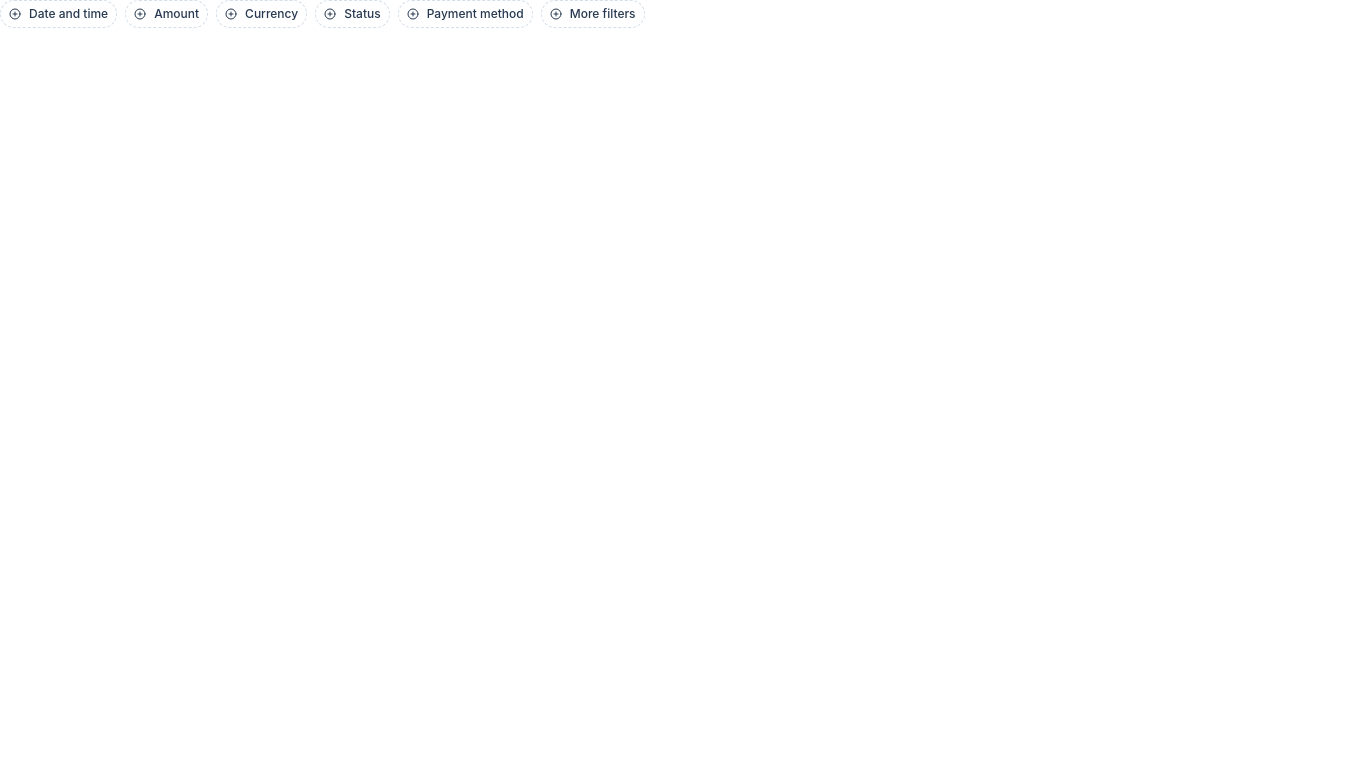
Test: FilterBar › amount rejects negatives and normalises between
Later steps or results of the test are not shown.
Click the button "Amount".
click(167, 14)  # box [125,0,208,28]
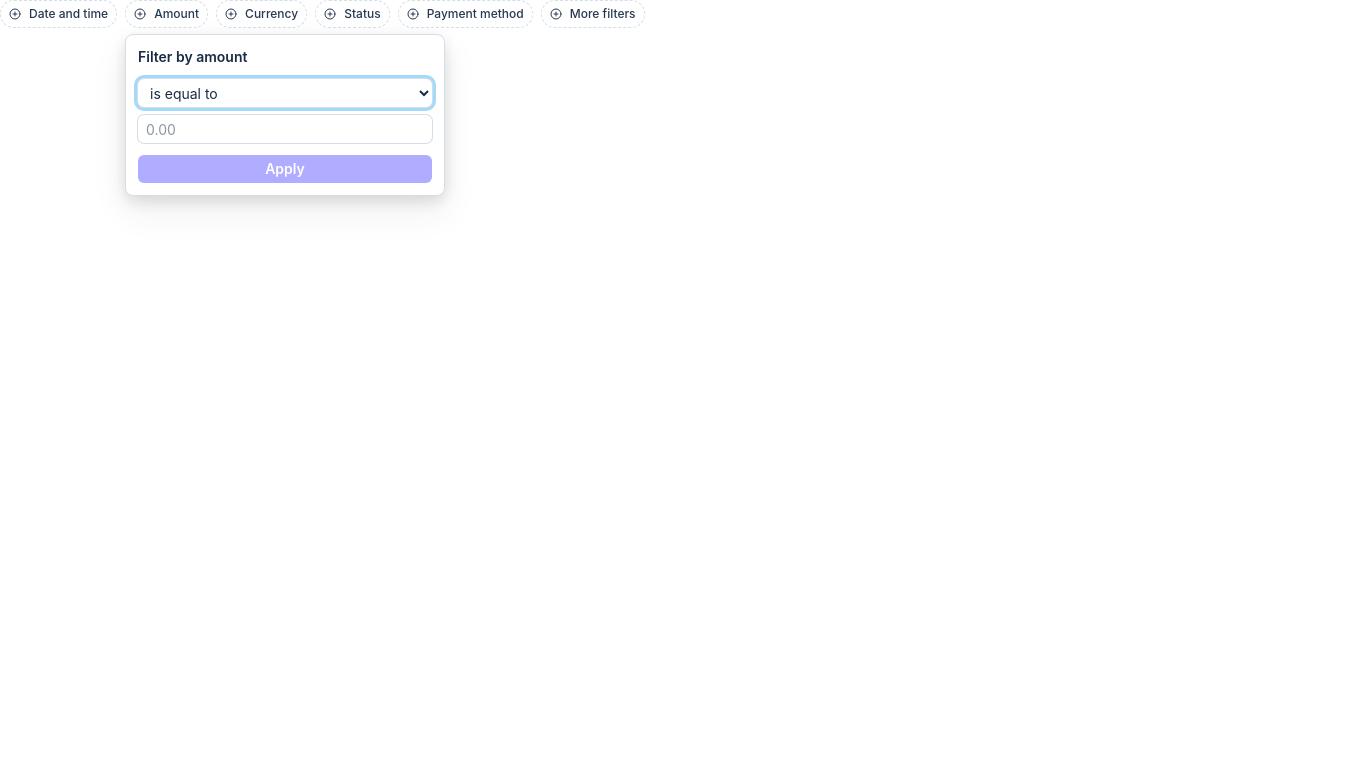
Type "-5" into the number field named "Amount".
click(285, 129); type("-5")  # box [138,115,432,143]
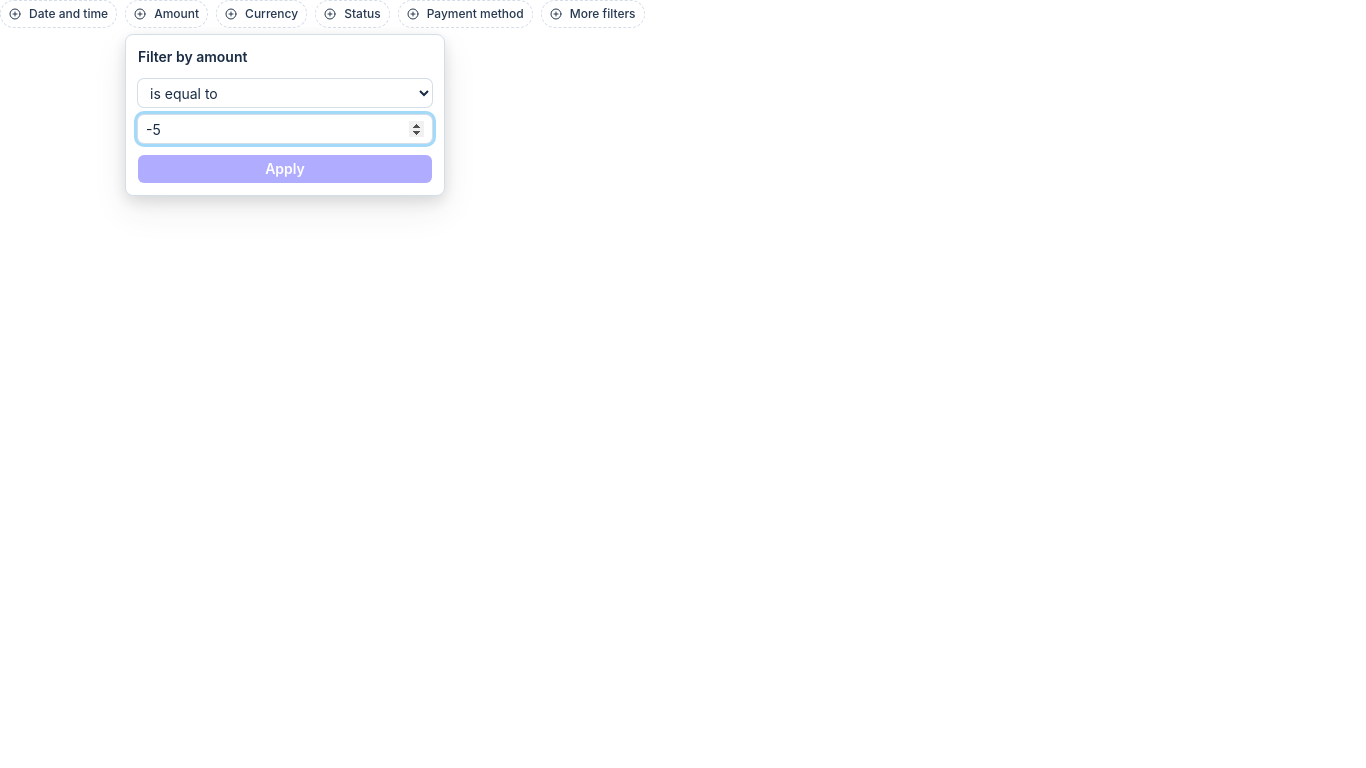
Check: the button "Apply" is disabled, box [138,155,432,183]
